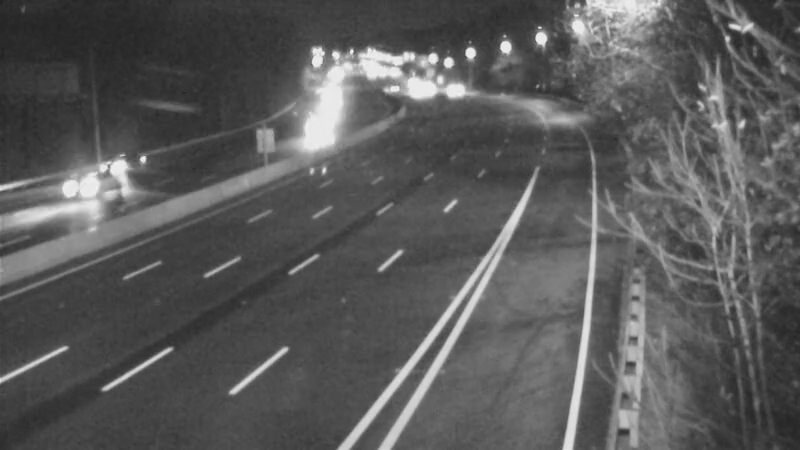vehicle: (40, 147, 120, 227), (75, 125, 155, 205), (433, 67, 483, 117), (289, 107, 339, 157)
